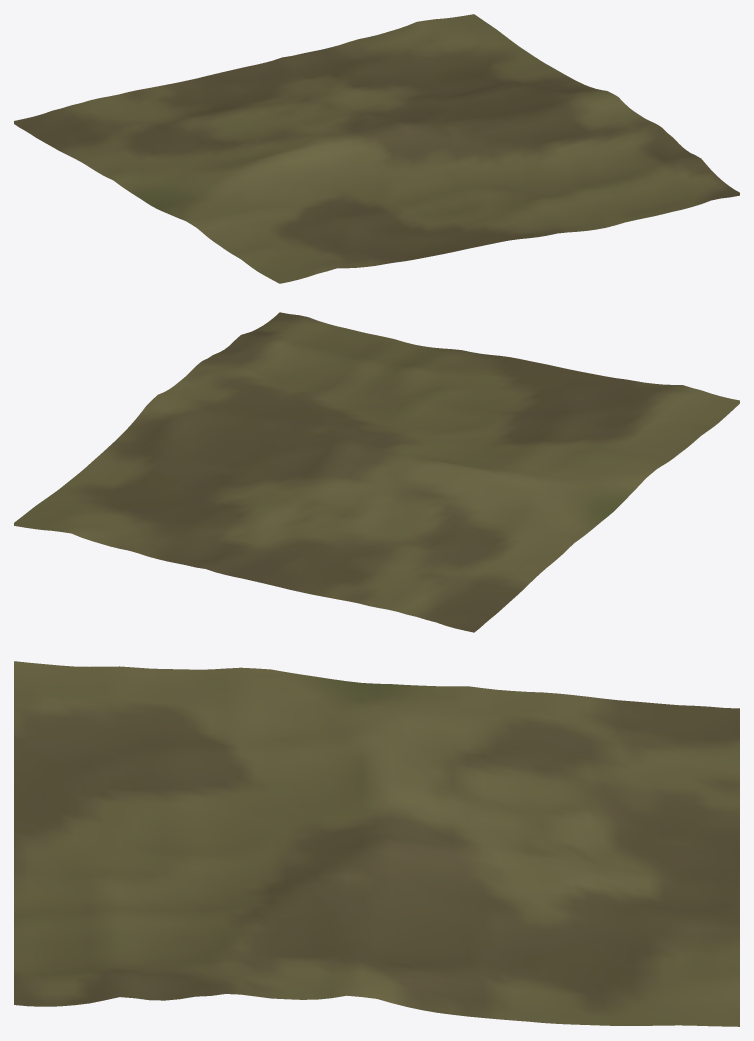
File: land_m_11_04.glb
The picture shows the model from 3 angles, top to bottom: view 1: azimuth 30°, elevation 25°; view 2: azimuth 150°, elevation 25°; view 3: azimuth 270°, elevation 25°; orthographic projection. The views are drawn at different scales.
Parts seen in each view (by area): view 1: land_m_11_04; view 2: land_m_11_04; view 3: land_m_11_04.
Part boxes in pixels (bbox=[...]): land_m_11_04: bbox=[14, 14, 739, 283]; land_m_11_04: bbox=[14, 312, 739, 632]; land_m_11_04: bbox=[14, 661, 739, 1026].
Size of the model in its own units: 960 by 89.01 by 960.
